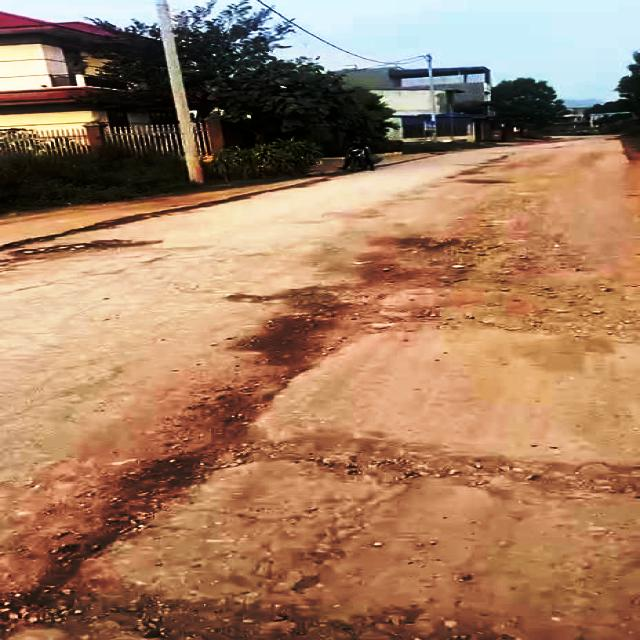pothole: (190, 415, 640, 505), (11, 561, 440, 640), (282, 286, 528, 338), (10, 234, 146, 259)
